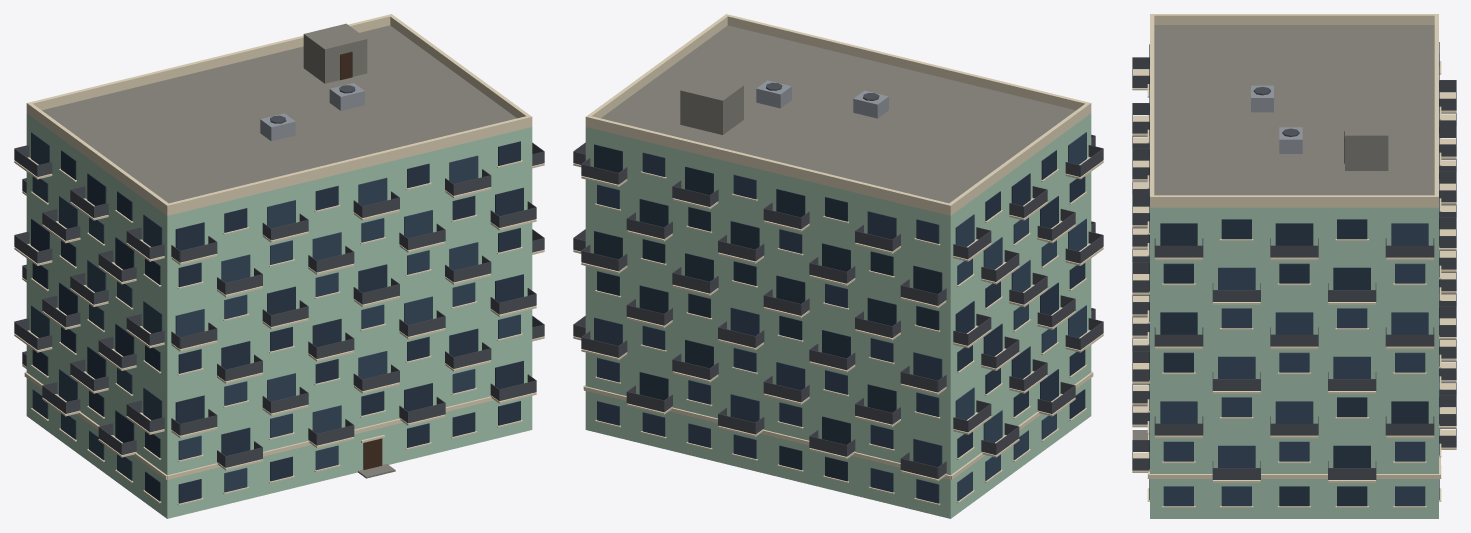
Rendered from apt_d.glb.
3 views of the same model, side by side, from view 1: azimuth 30°, elevation 25°; view 2: azimuth 150°, elevation 25°; view 3: azimuth 270°, elevation 25° (orthographic). The views are drawn at different scales.
Visible parts, largest first — view 1: apt_d; view 2: apt_d; view 3: apt_d.
Boxes of the visible parts, bbox=[...] form: apt_d: bbox=[14, 14, 544, 518]; apt_d: bbox=[573, 14, 1103, 518]; apt_d: bbox=[1132, 14, 1456, 518].
Size of what is drawn, in the model's own units: 32.48 by 26.6 by 22.48.
